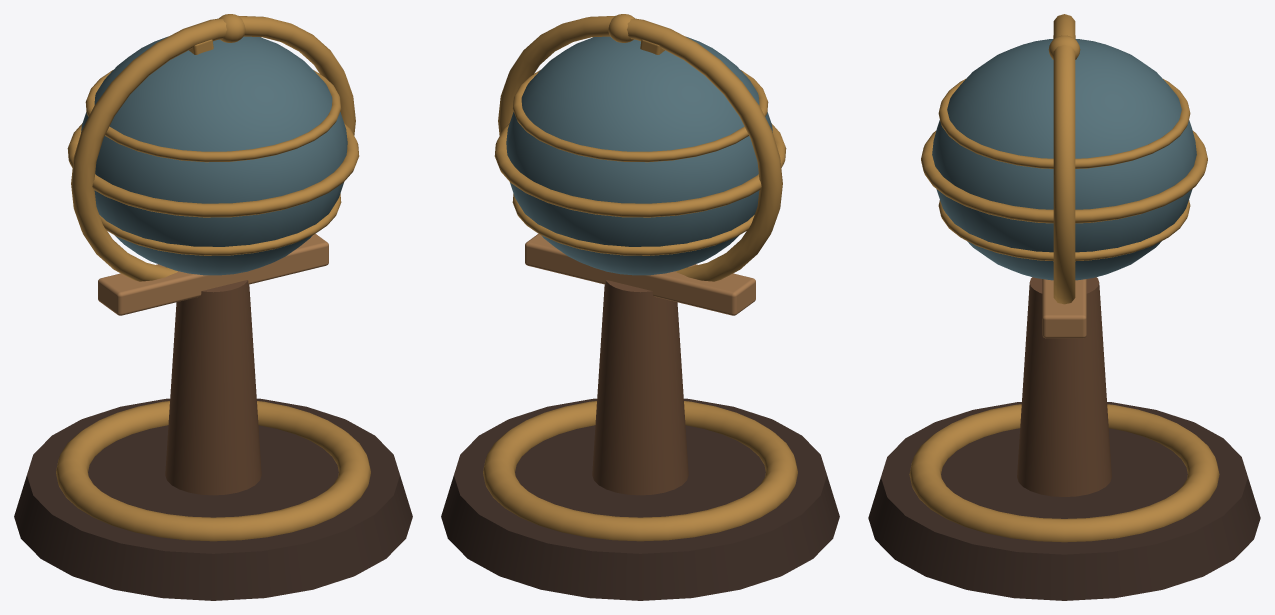
Rendered from detail_globe.glb.
3 views of the same model, side by side, from view 1: azimuth 30°, elevation 25°; view 2: azimuth 150°, elevation 25°; view 3: azimuth 270°, elevation 25° (orthographic).
Visible parts, largest first — view 1: plaster; view 2: plaster; view 3: plaster.
Part boxes in pixels (left/top/right/bottom): plaster: left=14, top=14, right=412, bottom=600; plaster: left=441, top=14, right=839, bottom=600; plaster: left=868, top=14, right=1260, bottom=600.
Size of the model in its own units: 0.8 by 1.1 by 0.8.
